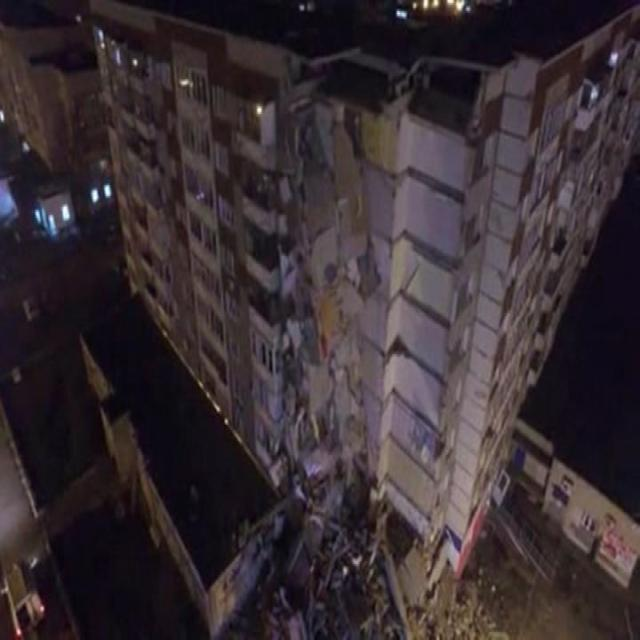collapsed_building: (279, 136, 385, 632)
